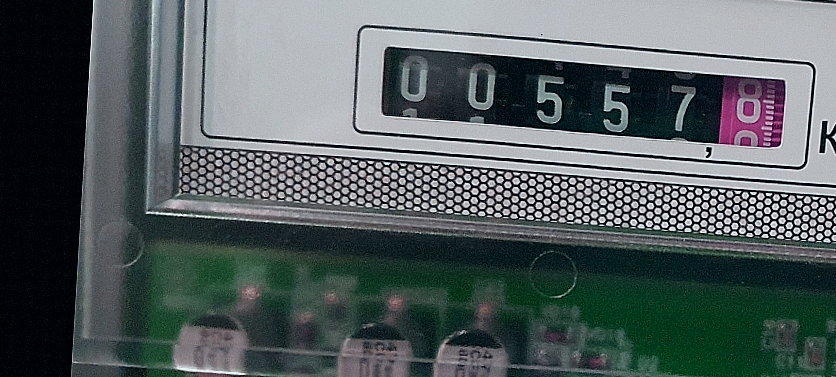0: (394, 48, 432, 106), (462, 57, 499, 111)
5: (595, 75, 636, 135), (530, 68, 567, 127)
7: (661, 78, 697, 135)
8: (733, 75, 764, 126)
screen: (346, 15, 821, 174)
